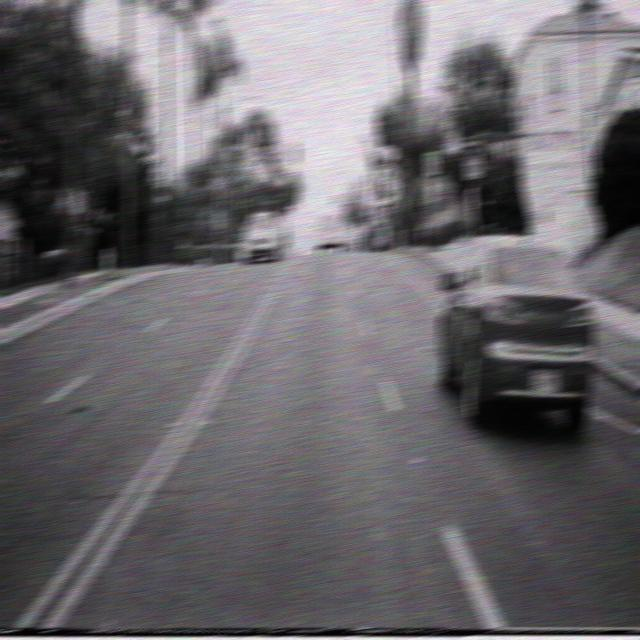speedLimit35: (424, 150, 438, 177)
